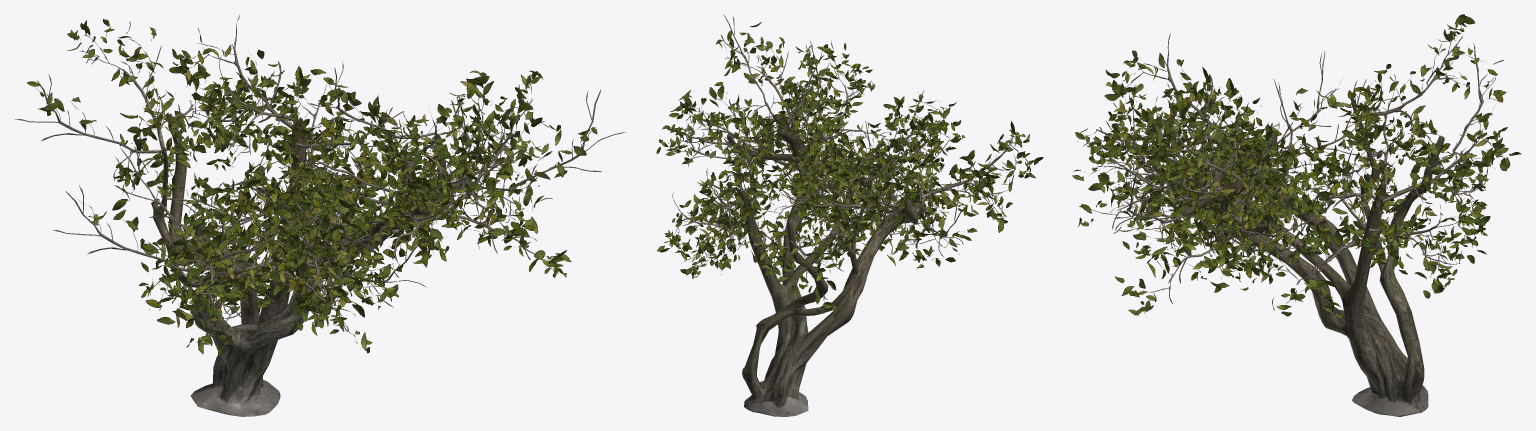
File: island_tree.glb
3 views of the same model, side by side, from view 1: azimuth 30°, elevation 25°; view 2: azimuth 150°, elevation 25°; view 3: azimuth 270°, elevation 25° (orthographic). The views are drawn at different scales.
Visible parts, largest first — view 1: island_tree_02_LOD0; view 2: island_tree_02_LOD0; view 3: island_tree_02_LOD0.
Boxes of the visible parts, x1=… form: island_tree_02_LOD0: x1=15, y1=15, x2=626, y2=416; island_tree_02_LOD0: x1=656, y1=14, x2=1043, y2=416; island_tree_02_LOD0: x1=1072, y1=14, x2=1521, y2=416.
Bounding box in the file's own units: 4.21 × 3.38 × 4.08.
3 materials, 3 textured.
